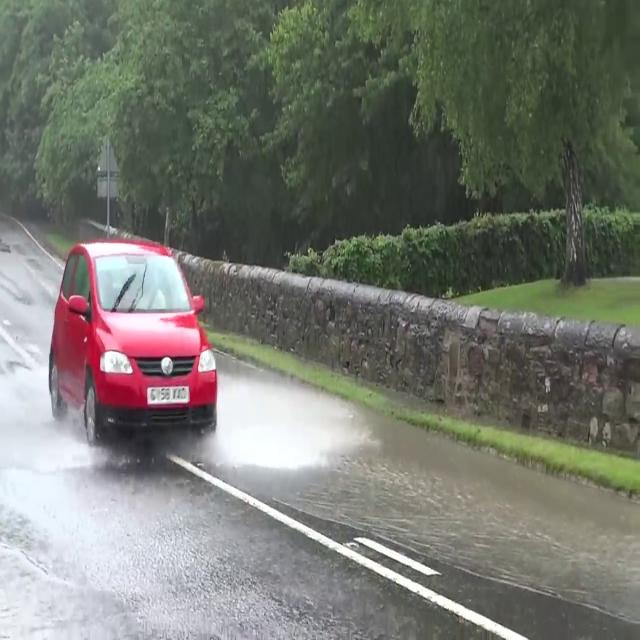license-plate-annotation: (147, 386, 191, 402)
